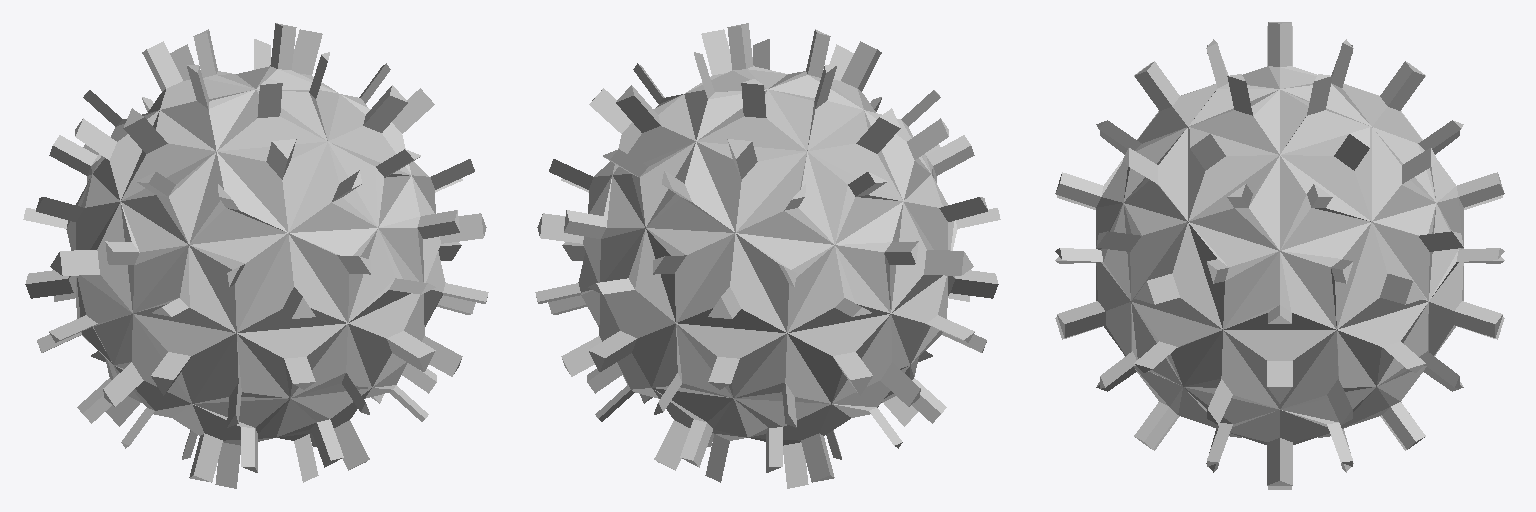
File: iso6.obj
3 views of the same model, side by side, from view 1: azimuth 30°, elevation 25°; view 2: azimuth 150°, elevation 25°; view 3: azimuth 270°, elevation 25° (orthographic).
Visible parts, largest first — view 1: Icosphere_Icosphere.001; view 2: Icosphere_Icosphere.001; view 3: Icosphere_Icosphere.001.
Boxes of the visible parts, x1,y1,x2,y2 form: Icosphere_Icosphere.001: [23, 23, 488, 488]; Icosphere_Icosphere.001: [535, 23, 1000, 488]; Icosphere_Icosphere.001: [1055, 22, 1504, 489].
Size of the model in its own units: 2.53 by 2.45 by 2.45.